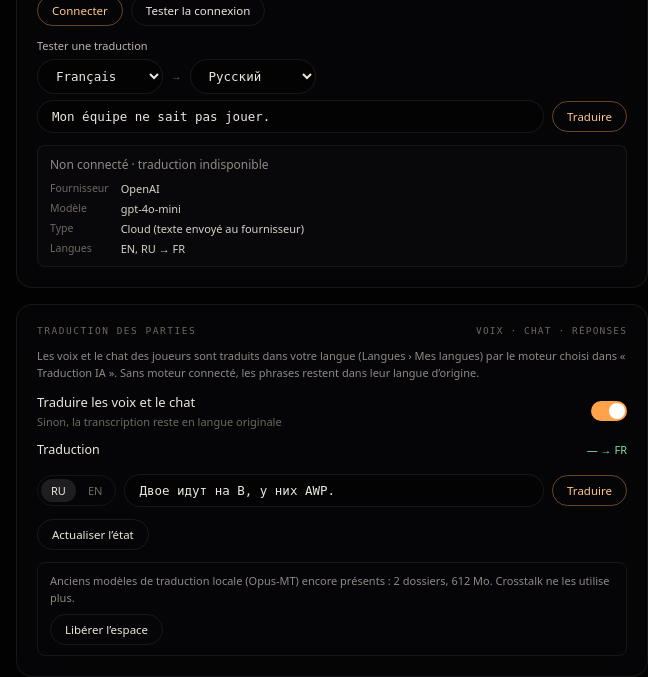
Test: translation card › offers to delete the old Opus-MT folders, only on request
(page scrolled)
Expected: the element with test id "legacy-models" shows "2 dossiers, 612 Mo", [37,562,627,656]
Click the button "Libérer l’espace": point(107, 630) [50,614,163,646]
(page scrolled)
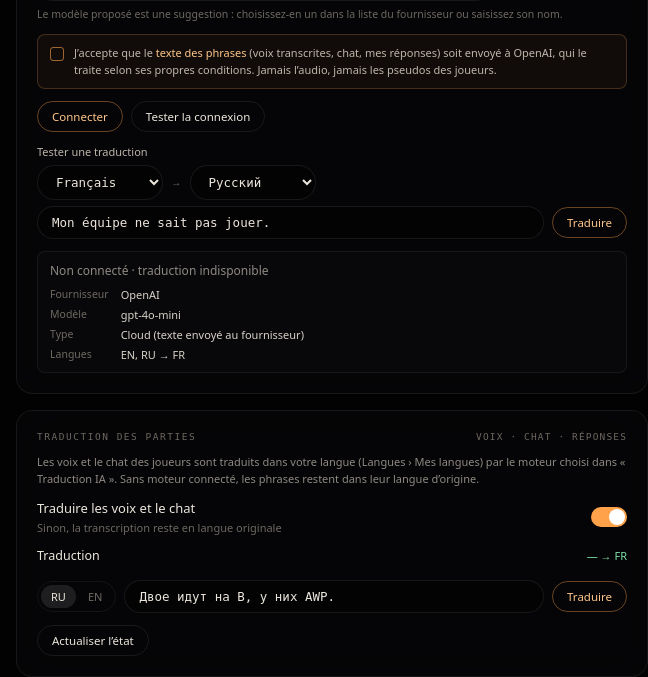
Expected: the element with test id "legacy-models" is gone
